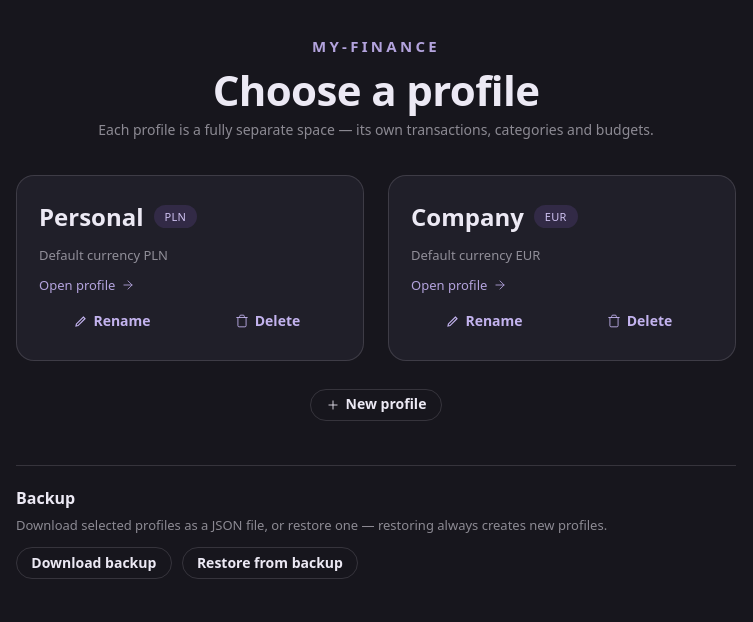
a failed pick shows its message below the cards and does not navigate
The image size is (753, 622).
Step 1. Click the button "Personal PLN Default currency PLN Open profile" → (91, 216), box [39,198,341,295]
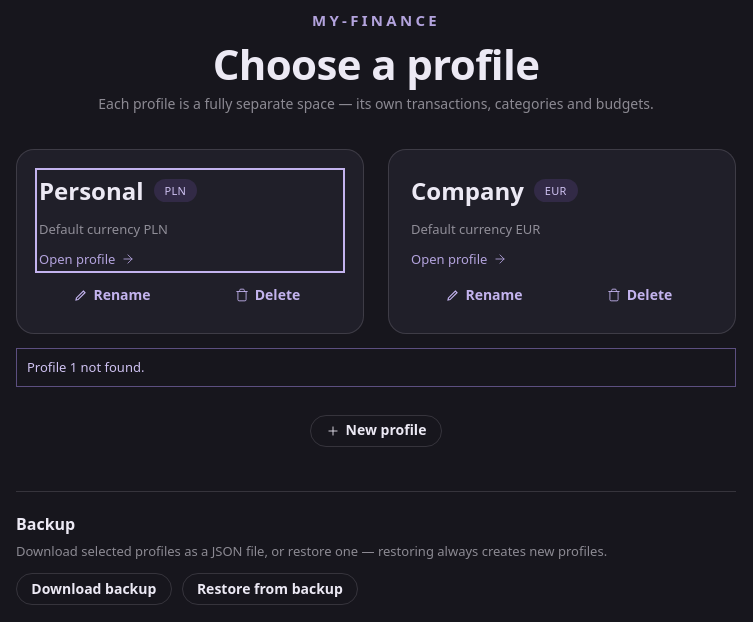
expect the text "Profile 1 not found." is shown: met, box [16,348,736,387]
